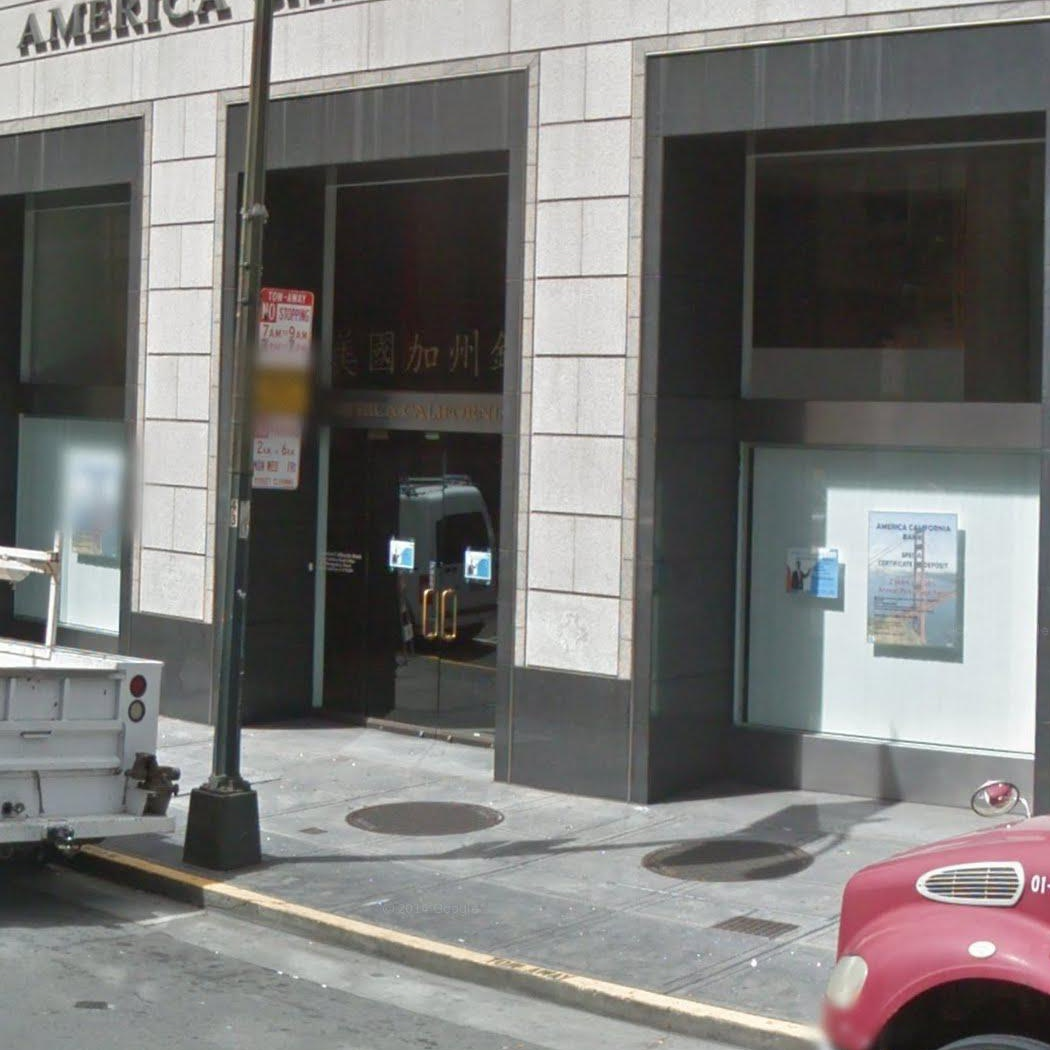No Parking: (249, 412, 303, 494)
